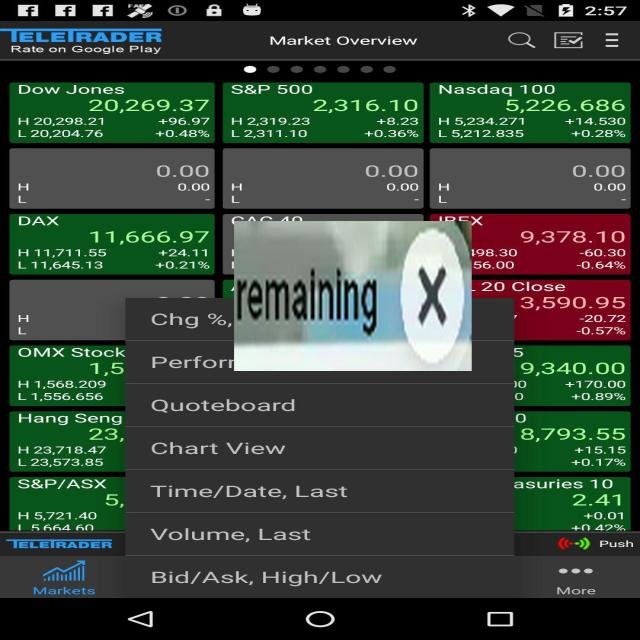misdirection: (234, 221, 472, 371)
